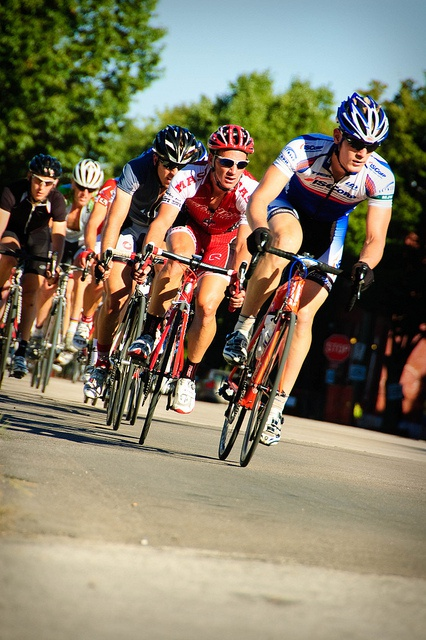non-vehicle: (218, 229, 358, 463), (127, 248, 241, 444), (101, 244, 160, 433), (29, 251, 94, 396), (0, 245, 57, 386)
